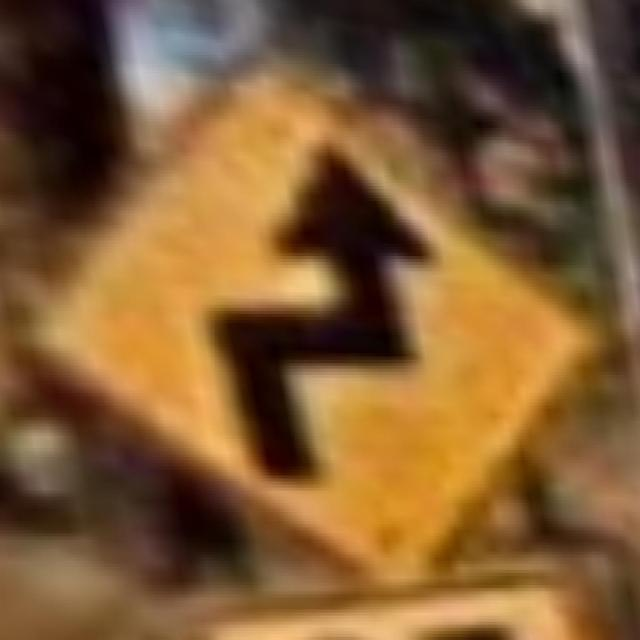Tikungan Ganda Pertama Ke Kanan: (46, 43, 594, 585)
